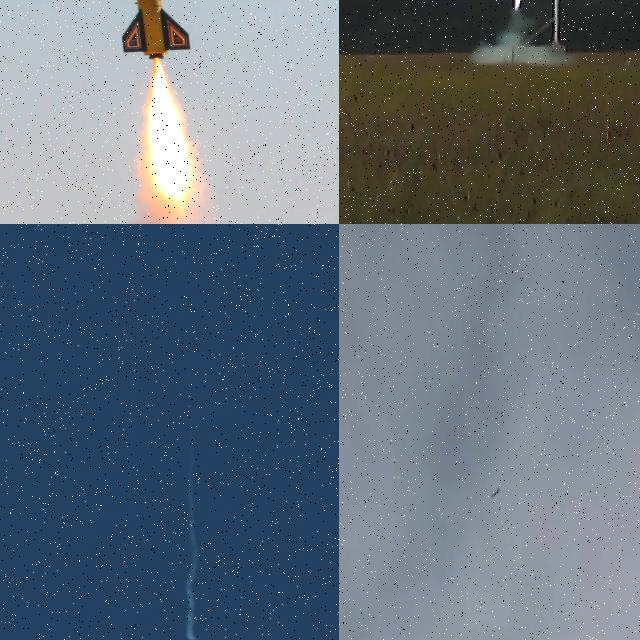Rocket: (118, 0, 193, 58), (490, 485, 500, 499), (188, 405, 191, 408)
